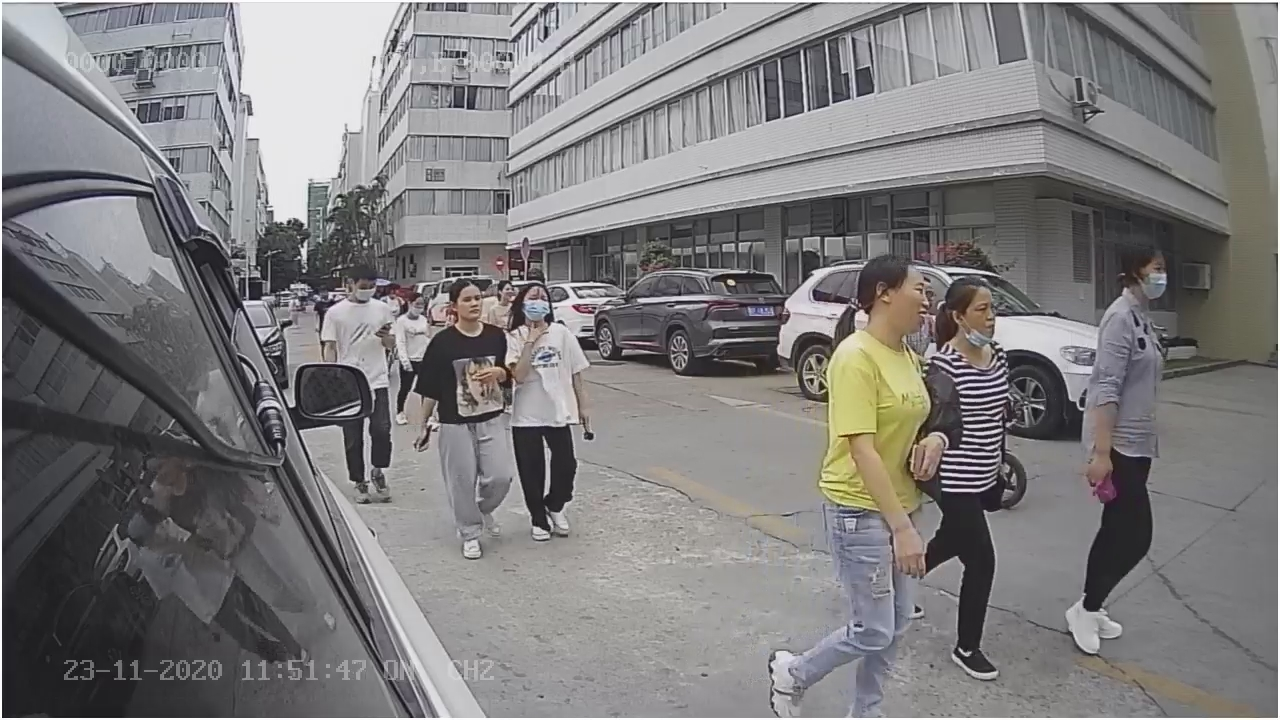person: (1055, 232, 1171, 658), (413, 280, 525, 557)
